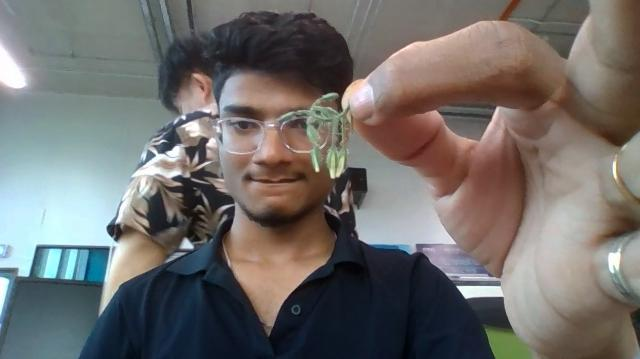Flower Bud: (301, 92, 342, 115), (327, 145, 346, 181), (276, 111, 309, 125), (307, 123, 322, 145), (310, 147, 321, 174)
